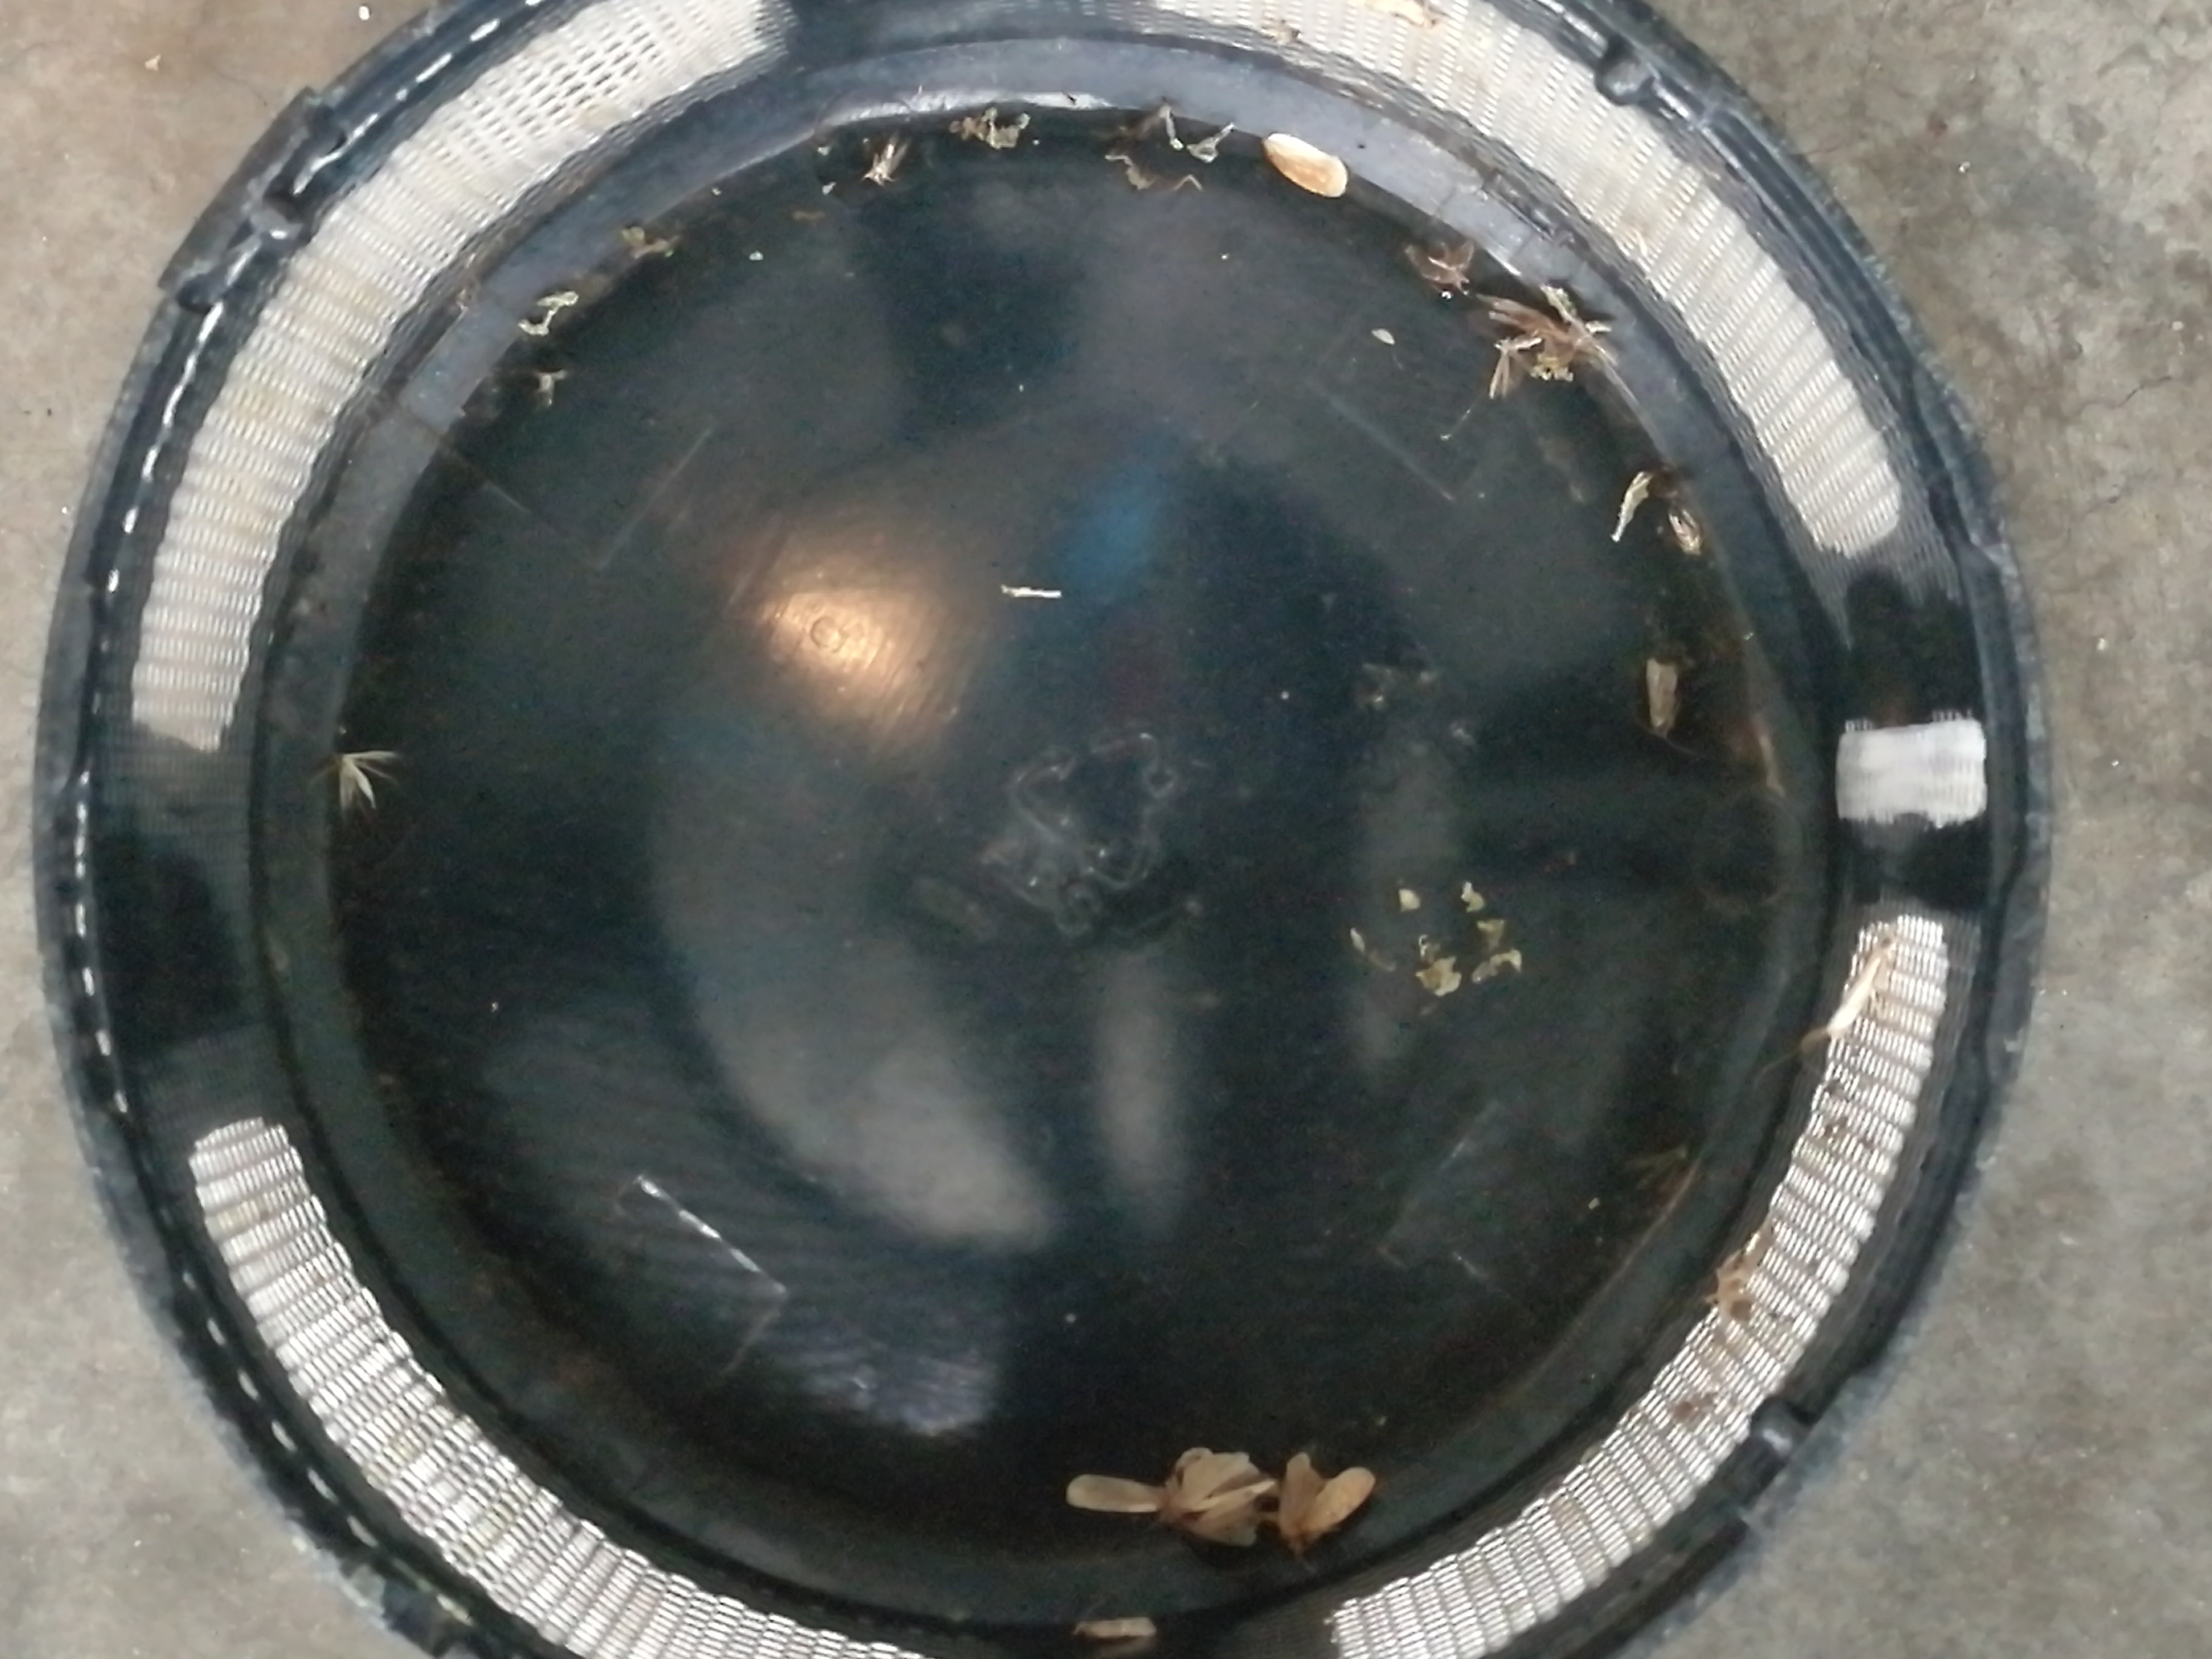mosquito: (1831, 932, 1893, 1035), (1648, 657, 1674, 737), (1073, 1617, 1153, 1636)
moth: (1069, 1446, 1275, 1546), (1282, 1455, 1378, 1554)
